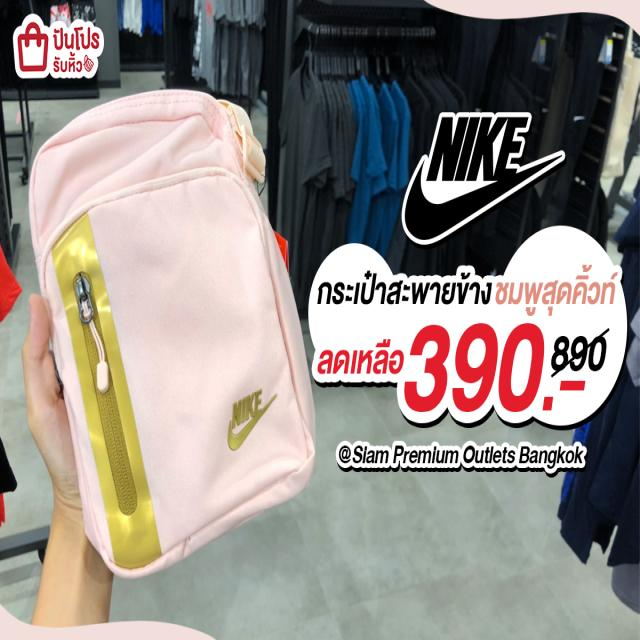handbag: (21, 88, 318, 590)
